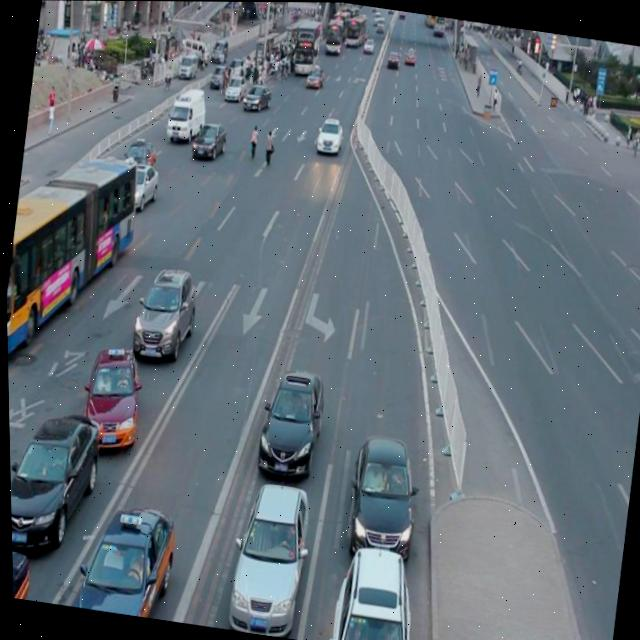car: (220, 469, 315, 638), (62, 488, 180, 620), (7, 401, 105, 555), (340, 423, 426, 559), (323, 533, 426, 640), (250, 358, 329, 478), (126, 255, 202, 361), (77, 338, 148, 451), (190, 117, 228, 162), (127, 161, 161, 209), (9, 535, 32, 600), (122, 137, 158, 175)
van: (3, 147, 142, 370)
